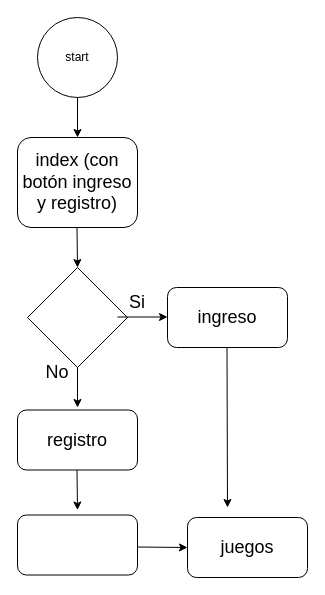
This 325x595 diagram has some shape labels left out. The centre of each missing label's shape, as x and y in pixels:
principal (con bienvenida): [77,544]
tiene cuenta: [77,317]
